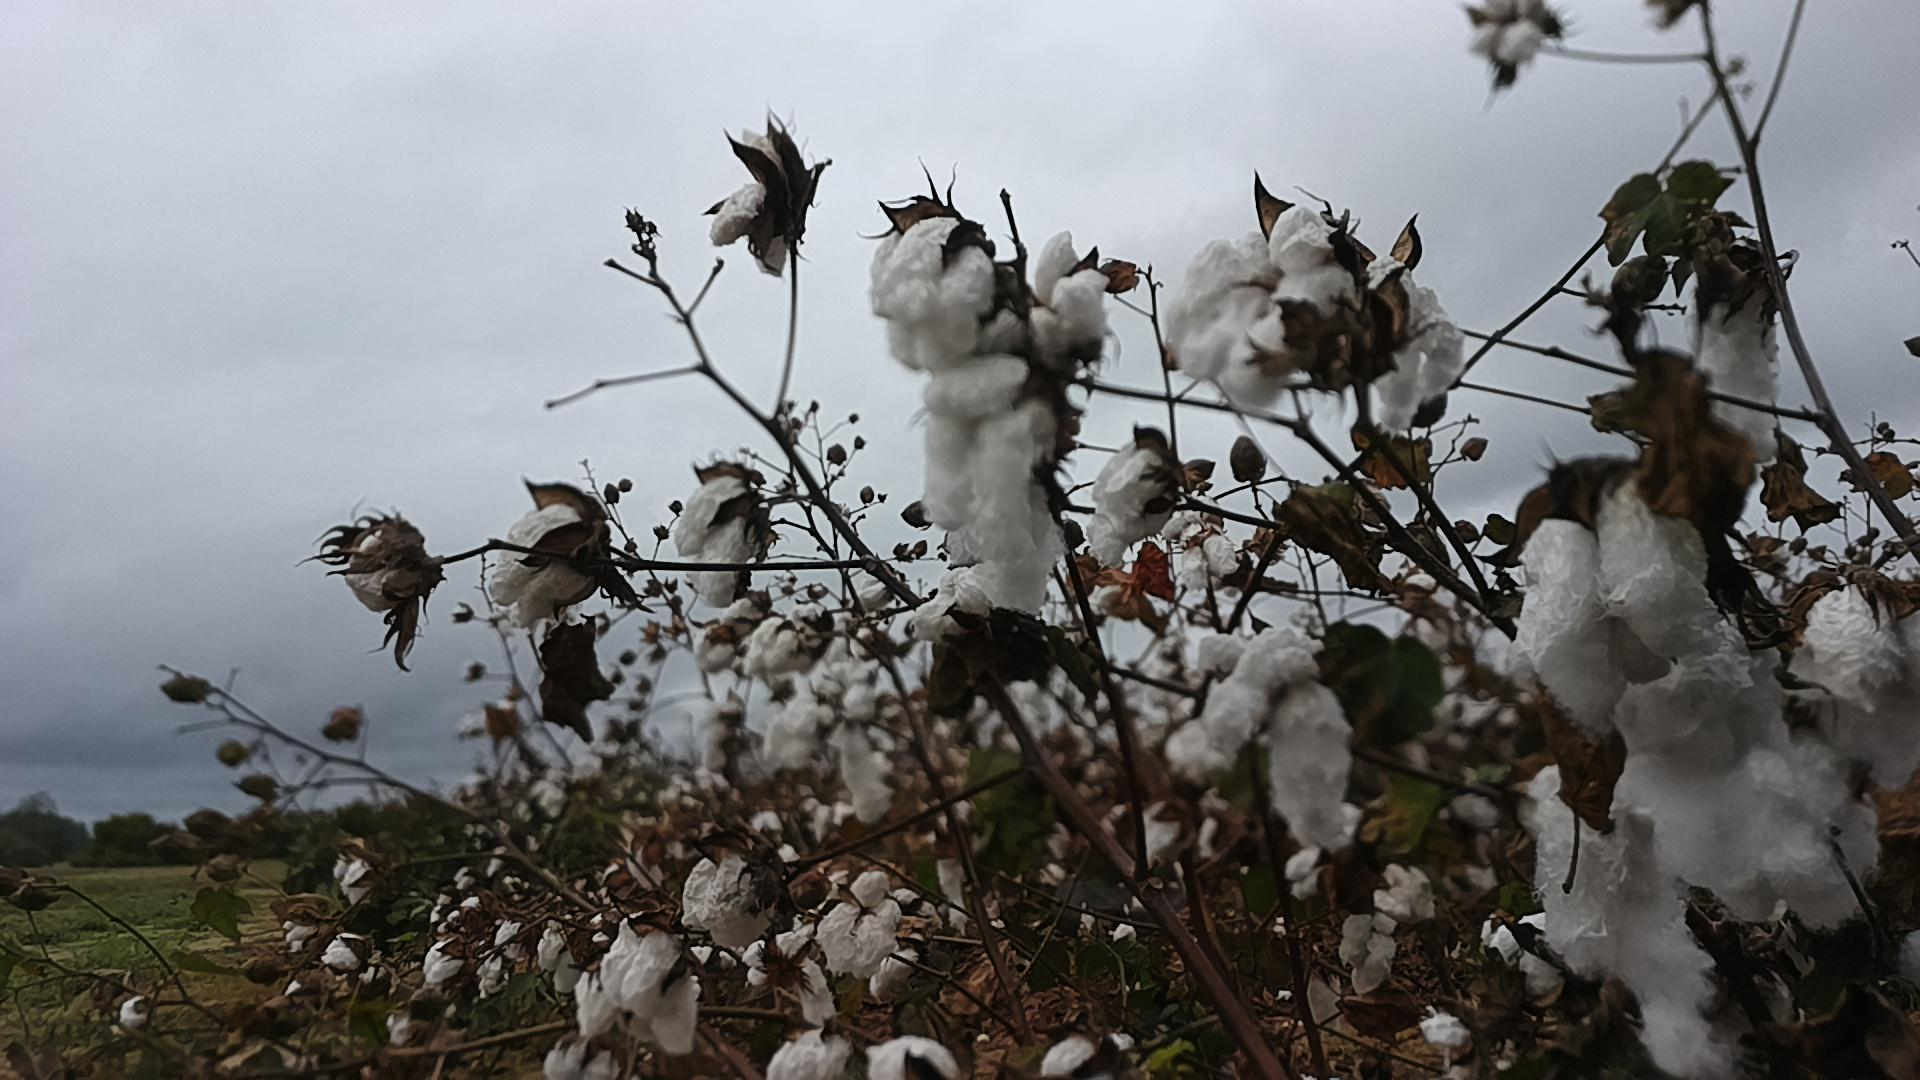cotton_ready: (1534, 653, 1888, 1080), (1515, 480, 1750, 757), (1166, 202, 1360, 406), (1195, 625, 1354, 847), (1783, 585, 1920, 789), (910, 355, 1065, 521), (1683, 247, 1780, 465), (866, 206, 996, 365), (1367, 253, 1468, 435), (338, 516, 443, 670), (597, 909, 700, 1056), (1085, 433, 1185, 571), (934, 520, 1068, 621), (488, 505, 597, 628), (1019, 228, 1117, 360), (708, 128, 793, 256), (674, 471, 756, 603), (814, 865, 909, 976), (678, 851, 782, 951), (1035, 1026, 1141, 1080), (767, 1023, 856, 1080), (862, 1035, 963, 1080), (748, 617, 820, 676)
